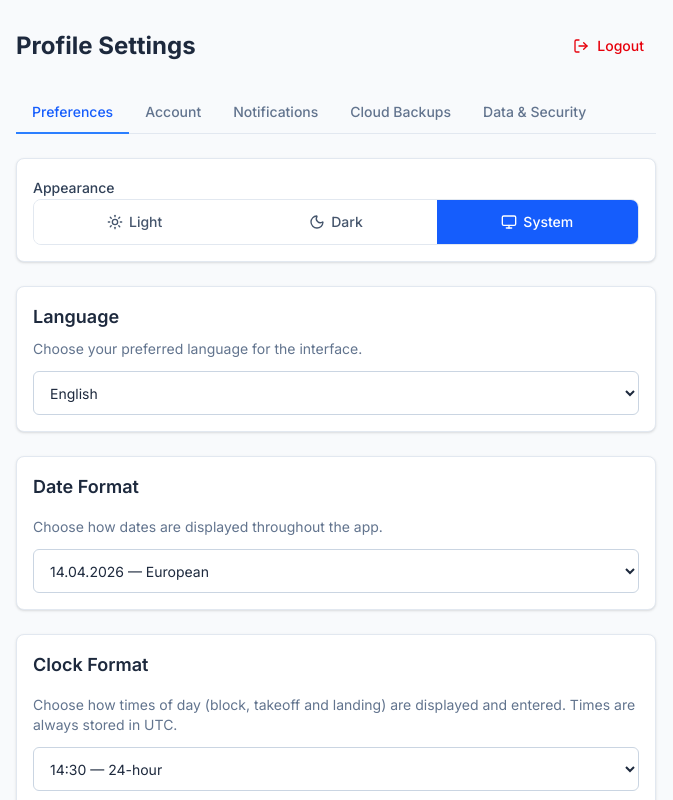
Test: ProfilePage › shows Delete All Flights button
The image size is (673, 800).
Click the button "Data & Security" at (535, 113), box [467, 92, 602, 134]
(page scrolled)
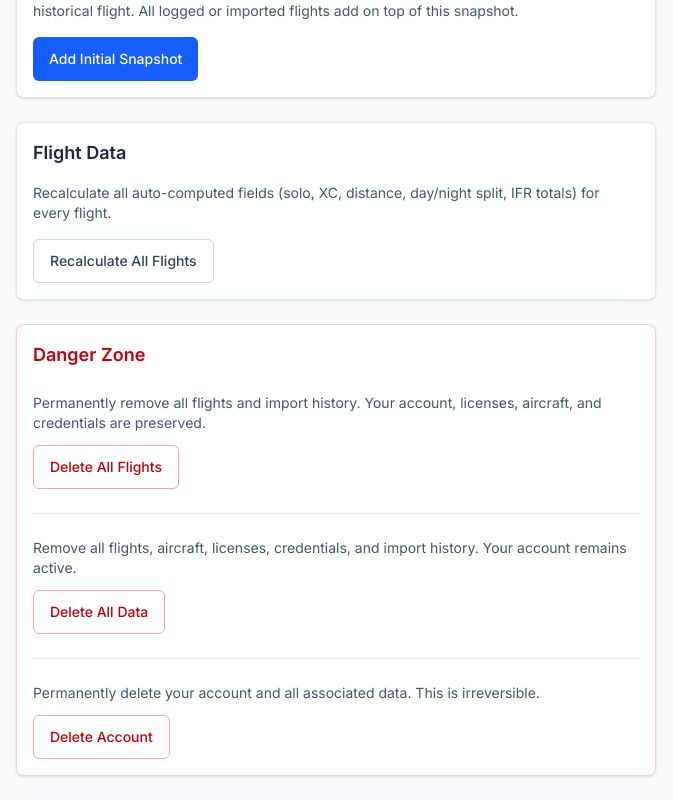
expect the button "Delete All Flights" is shown: met, box [33, 445, 179, 489]
